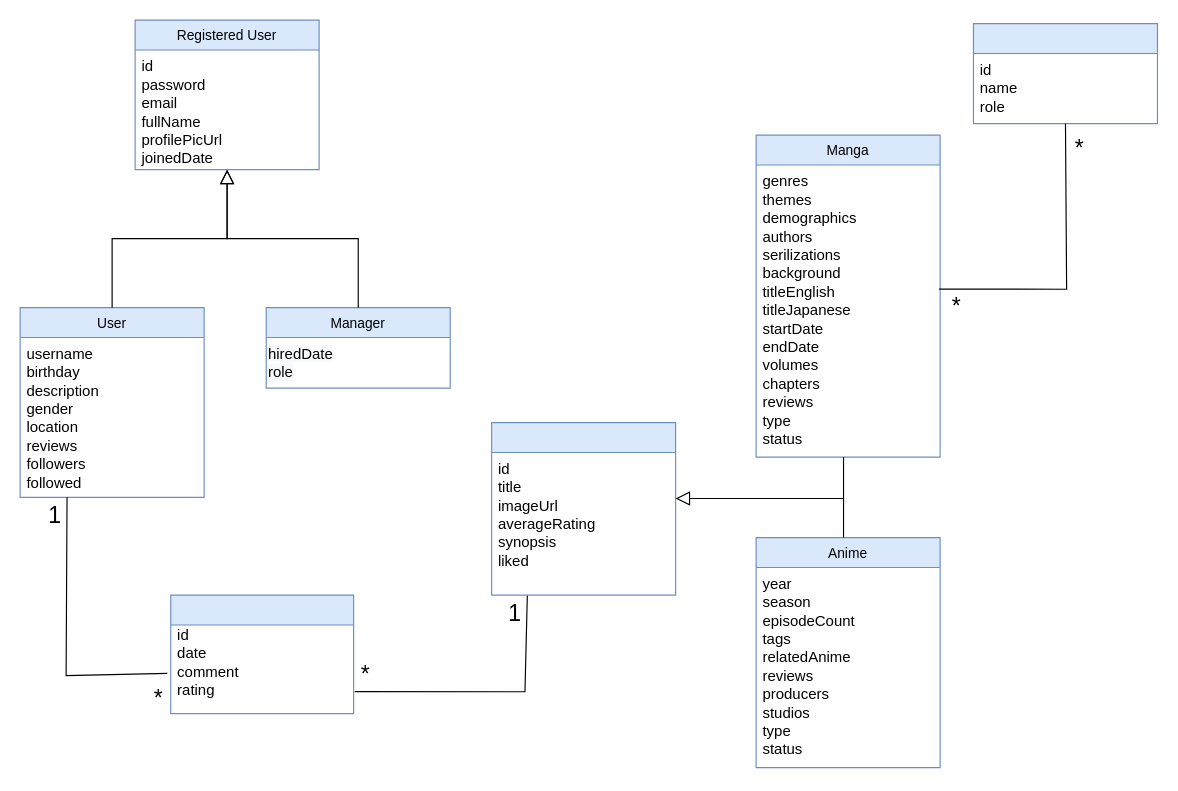
This 1178x791 diagram has some shape labels left out. The box of each missing label's shape, as (x1, y1, x2, y2) in pixels:
MangaAuthor: (972, 22, 1157, 124)
MediaContent: (490, 421, 676, 595)
Review: (170, 594, 354, 714)
